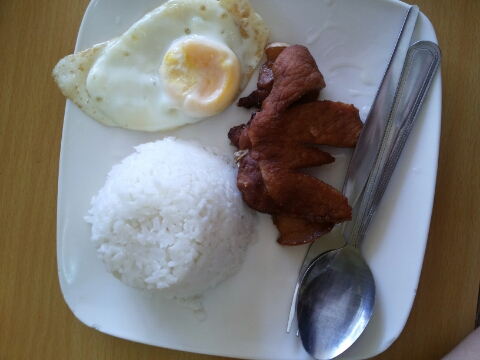fried egg: (58, 6, 269, 131)
plain rice: (88, 144, 245, 300)
